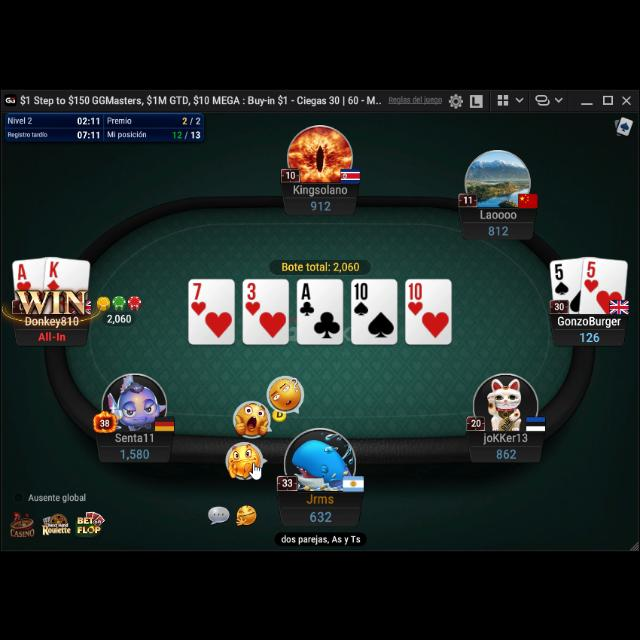3h: (244, 281, 262, 317)
5h: (582, 257, 600, 291)
5s: (553, 260, 571, 294)
6d: (582, 257, 600, 291)
7h: (190, 280, 206, 314)
Ac: (298, 278, 316, 316)
Ah: (15, 260, 32, 288)
Kd: (45, 257, 61, 287)
Th: (408, 280, 424, 314)
Ts: (352, 280, 370, 314)
all_in_symbol: (37, 327, 67, 339)
bet_text: (106, 310, 132, 322)
pot_text: (280, 258, 360, 270)
stack_text: (120, 443, 150, 457), (308, 506, 334, 522), (578, 327, 602, 341), (488, 220, 510, 234), (310, 195, 332, 209), (495, 444, 517, 456)
